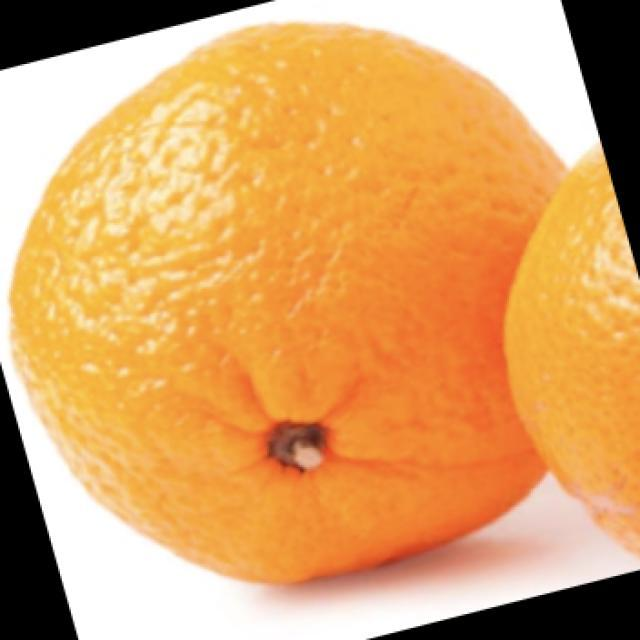matang: (12, 25, 559, 580), (505, 145, 639, 555)
